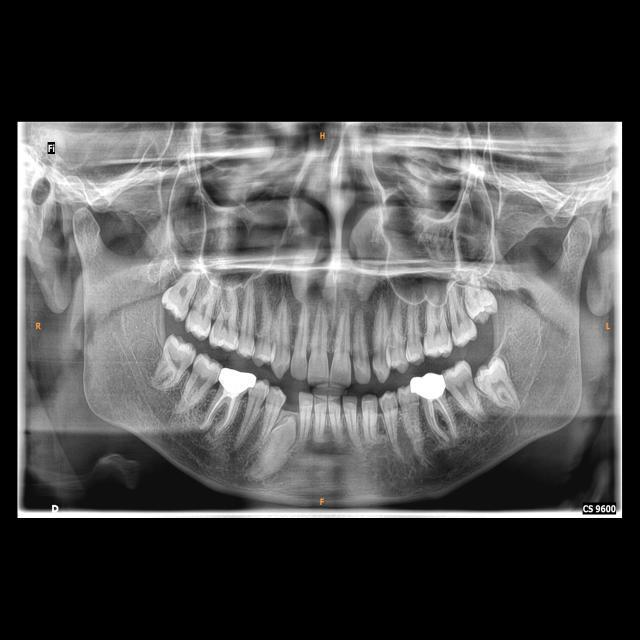kanal-tedavisi: (421, 398, 461, 439), (203, 391, 241, 434)
kaplama: (219, 361, 258, 401), (408, 369, 448, 401)
